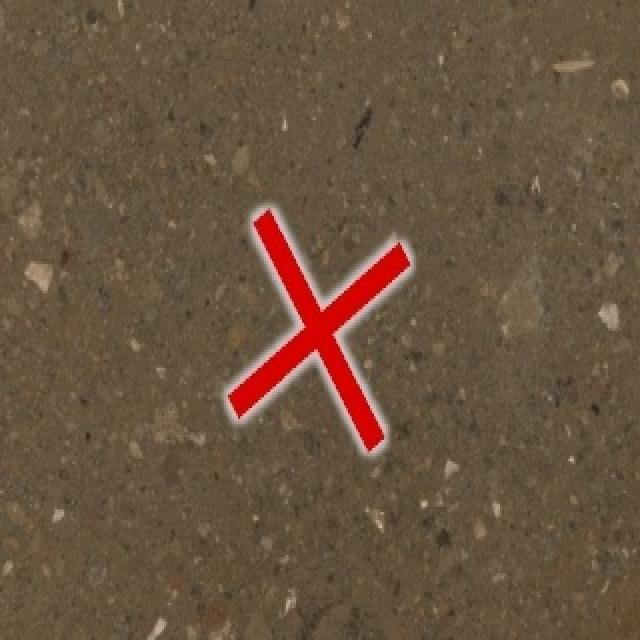x_marker: (227, 210, 409, 450)
